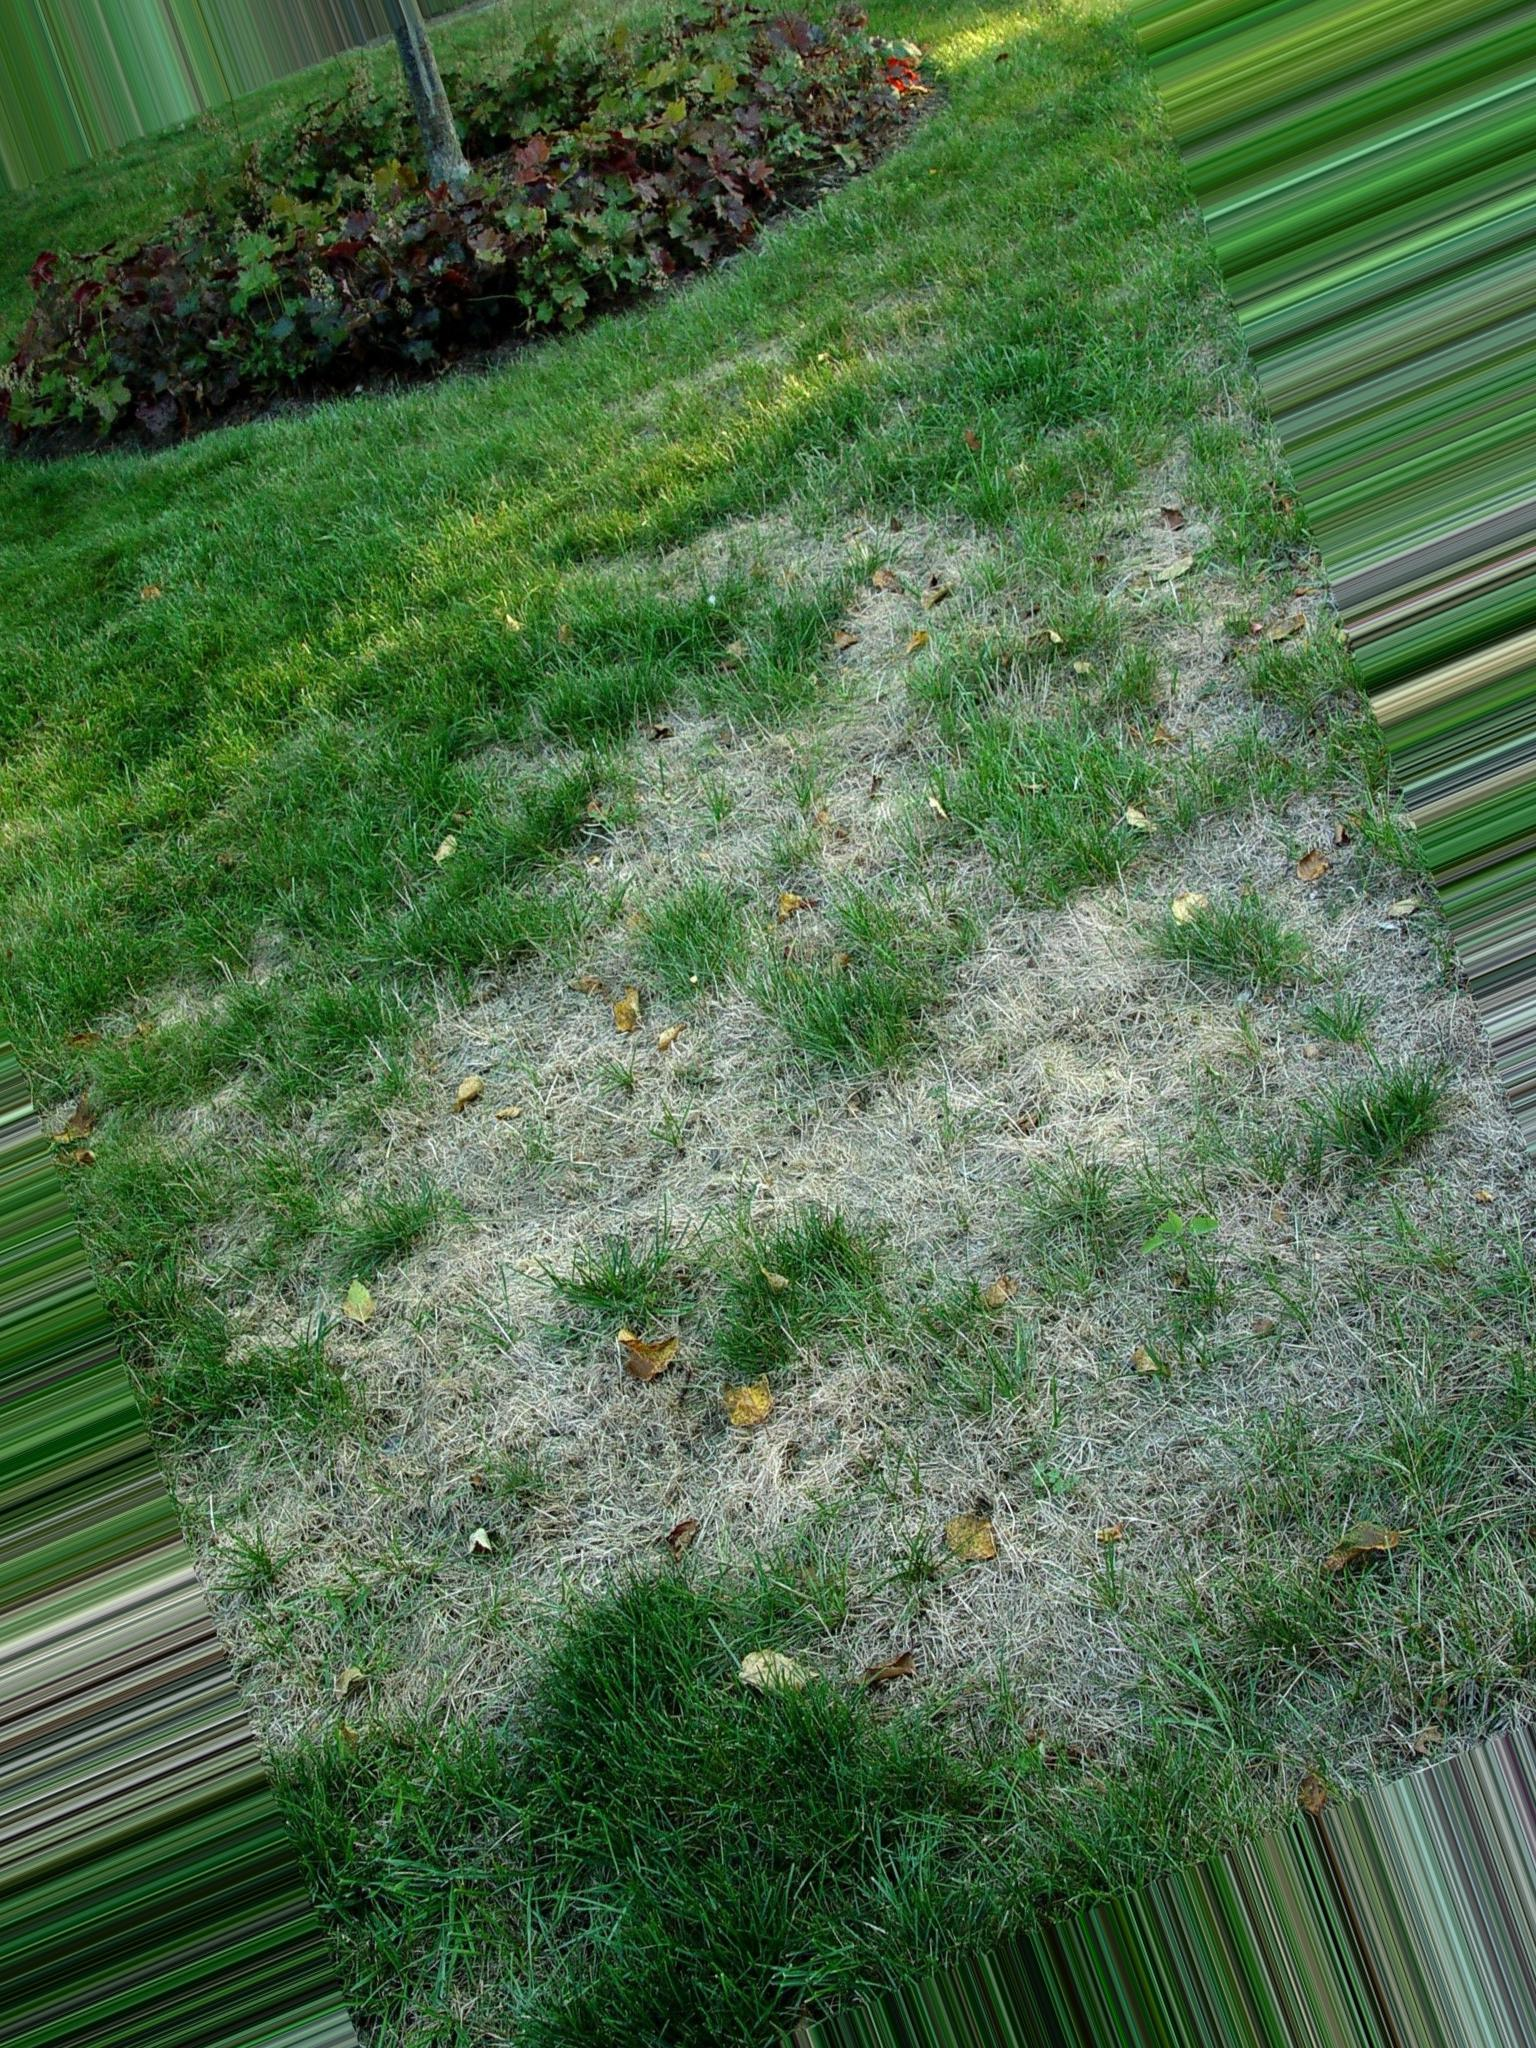patch: (520, 948, 1305, 1347), (670, 542, 1283, 972), (707, 1243, 1231, 1640), (231, 1132, 650, 1606)
